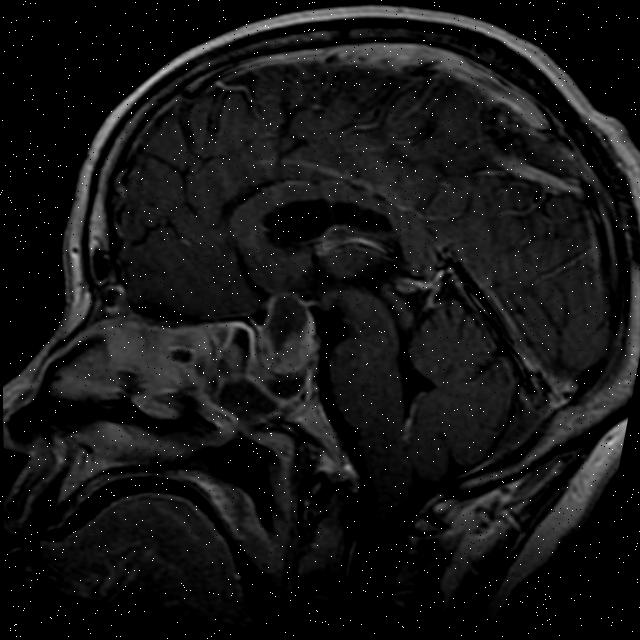Pituitary: (249, 287, 326, 382)
